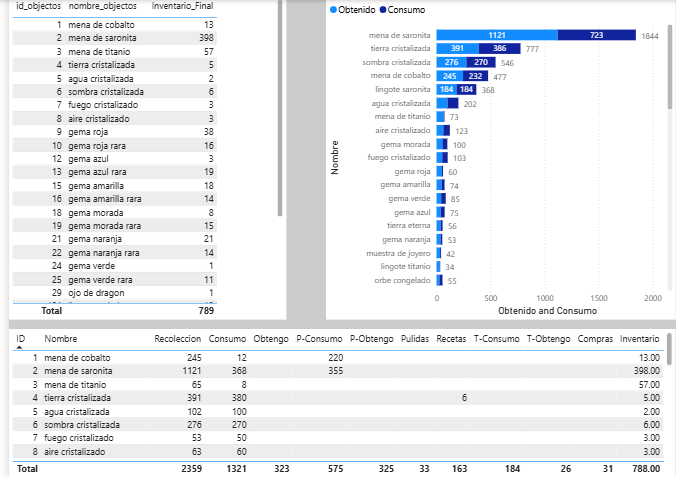

Layout of this report page (visuals, bound fields, positions):
{"tool":"powerbi","page":{"name":"INVENTARIO","canvas":[1280,720],"ordinal":0},"visuals":[{"type":"tableEx","fields":{"Values":["public d_id_objectos.id_objectos","public d_id_objectos.nombre_objectos","Sum(public v_total_recoleccion.sum)","public v_total_consumo.sum","Sum(public v_total_obtengo.sum)","Sum(public v_prospeccion_cantidad.sum)","Sum(public v_total_prospeccion_resultados.sum)","Sum(public v_gemas_pulidas.sum)","Sum(public v_recetas_consumo.sum)","Sum(public v_transmutaciones_consumo.sum)","Sum(public v_transmutaciones_obtengo.sum)","Sum(public v_compras.sum)"]},"box":[0,496.6,994.8,222.4],"z":0},{"type":"tableEx","fields":{"Values":["public d_id_objectos.id_objectos","public d_id_objectos.nombre_objectos","public d_id_objectos.Inventario_Final"]},"box":[0,0,413.8,482.8],"z":1000},{"type":"barChart","fields":{"Category":["public d_id_objectos.nombre_objectos"],"Y":["public d_id_objectos.obtenido_Final","public d_id_objectos.consumo_Final"]},"box":[472.4,0,522.4,482.8],"z":2000}]}

Visuals, with their boxes on the page's 1280x720 design canvas (x1, y1, x2, y2). These are canvas units, not pixel positions in the 676x477 screenshot, which may show the page scaled, cropped or inside an application window:
tableEx - public d_id_objectos.id_objectos x public d_id_objectos.nombre_objectos: Rect(0, 497, 995, 719)
tableEx - public d_id_objectos.id_objectos x public d_id_objectos.nombre_objectos: Rect(0, 0, 414, 483)
barChart - public d_id_objectos.nombre_objectos x public d_id_objectos.obtenido_Final: Rect(472, 0, 995, 483)
